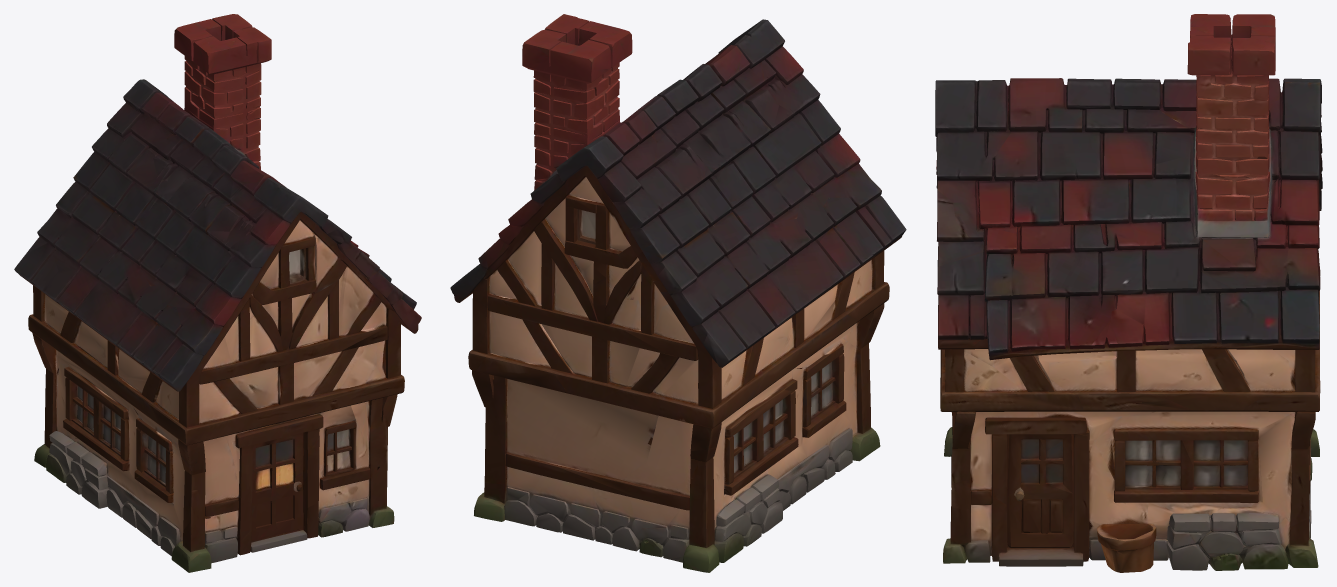
The picture shows the model from 3 angles, left to right: view 1: azimuth 30°, elevation 25°; view 2: azimuth 150°, elevation 25°; view 3: azimuth 270°, elevation 25°; orthographic projection. The views are drawn at different scales.
Parts seen in each view (by area): view 1: model; view 2: model; view 3: model.
Part boxes in pixels (left/top/right/bottom): model: left=14, top=14, right=421, bottom=572; model: left=450, top=14, right=906, bottom=572; model: left=935, top=14, right=1322, bottom=572.
Bounding box in the file's own units: 1.27 × 1.9 × 1.33.
Materials: 1 (1 with a texture image).
